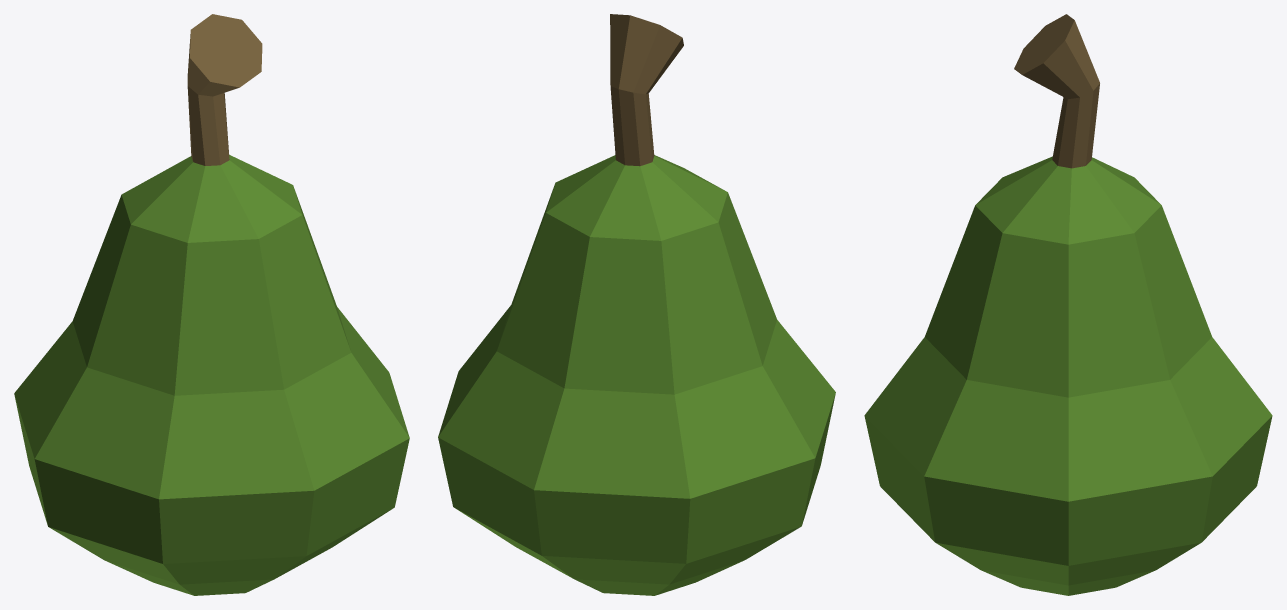
Rendered from pear.fbx.
3 views of the same model, side by side, from view 1: azimuth 30°, elevation 25°; view 2: azimuth 150°, elevation 25°; view 3: azimuth 270°, elevation 25° (orthographic).
Parts seen in each view (by area): view 1: pear; view 2: pear; view 3: pear.
Part boxes in pixels (x1,y1,x2,y2): pear: (14, 14, 409, 595); pear: (438, 14, 835, 595); pear: (864, 14, 1272, 595).
Bounding box in the file's own units: 198 × 295 × 198.
